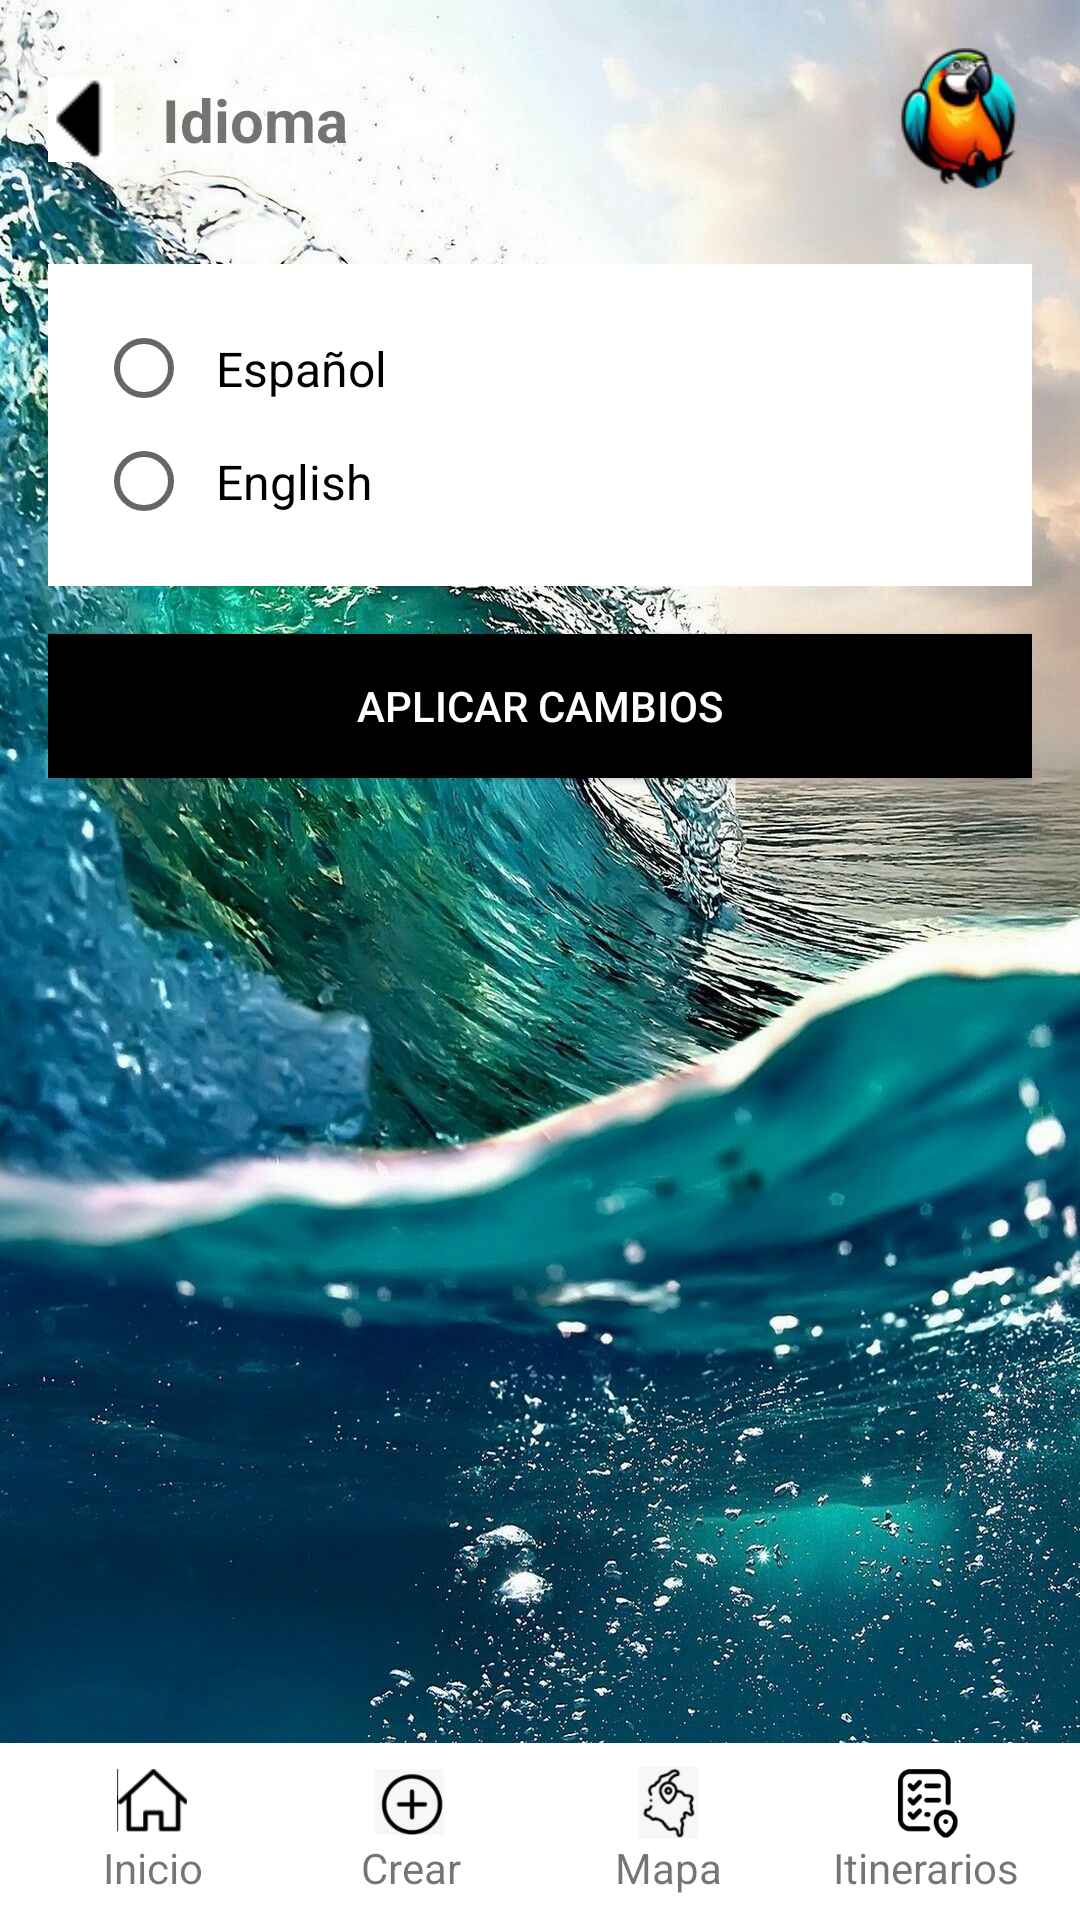

Screen size 1080px×1920px. Icon name, then its center in pixels as (x,y):
Volver: (79,119)
